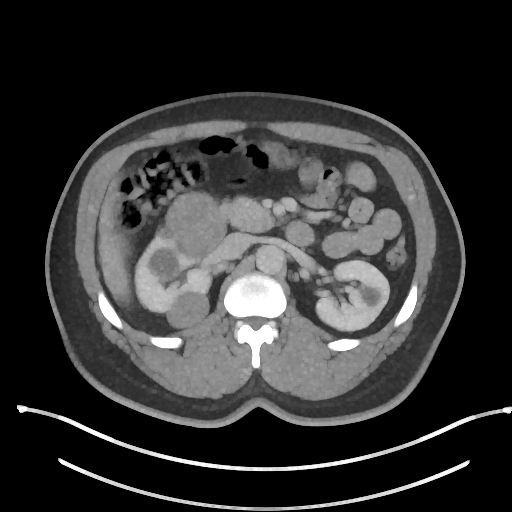Lesion: (361, 280, 387, 311)
